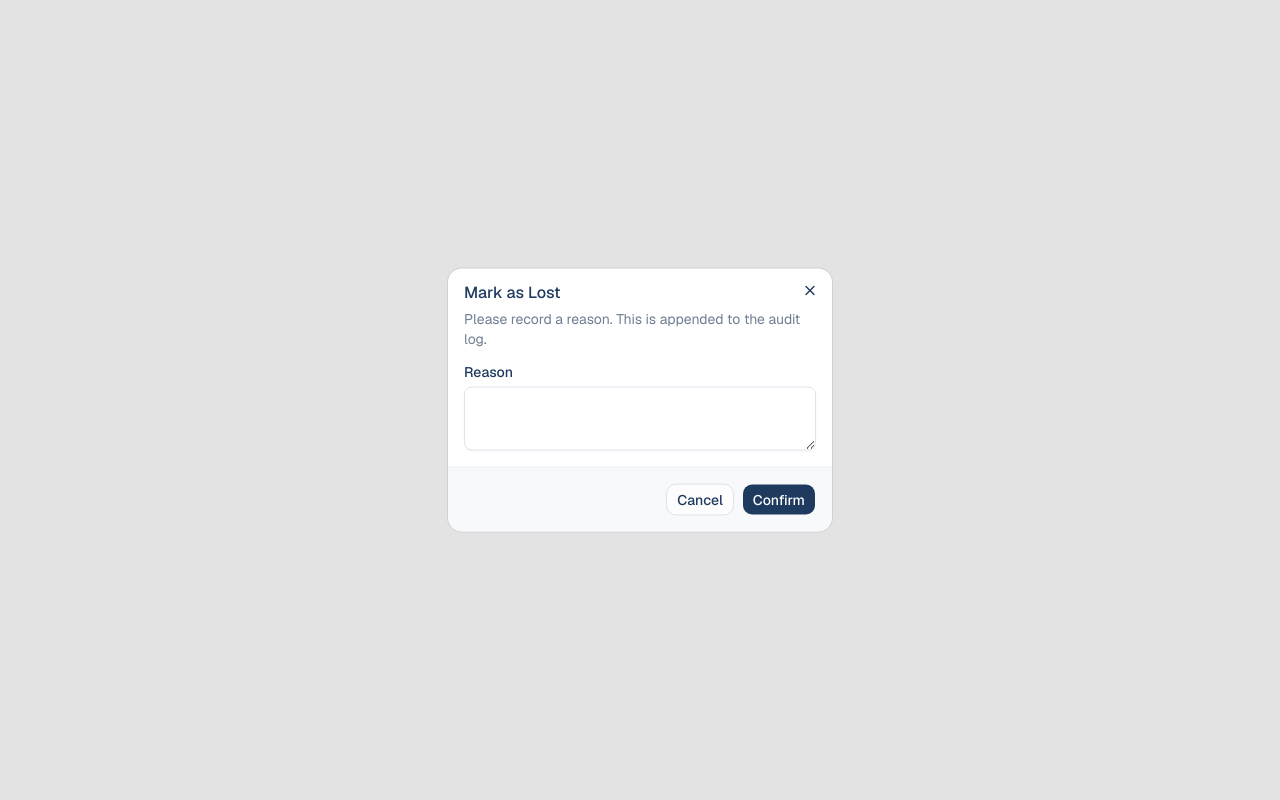
Test: TransitionReasonDialog › rejects empty reason
The width and height of the screenshot is (1280, 800).
Click the button with test id "reason-submit": x=779, y=500 [742,484,816,516]
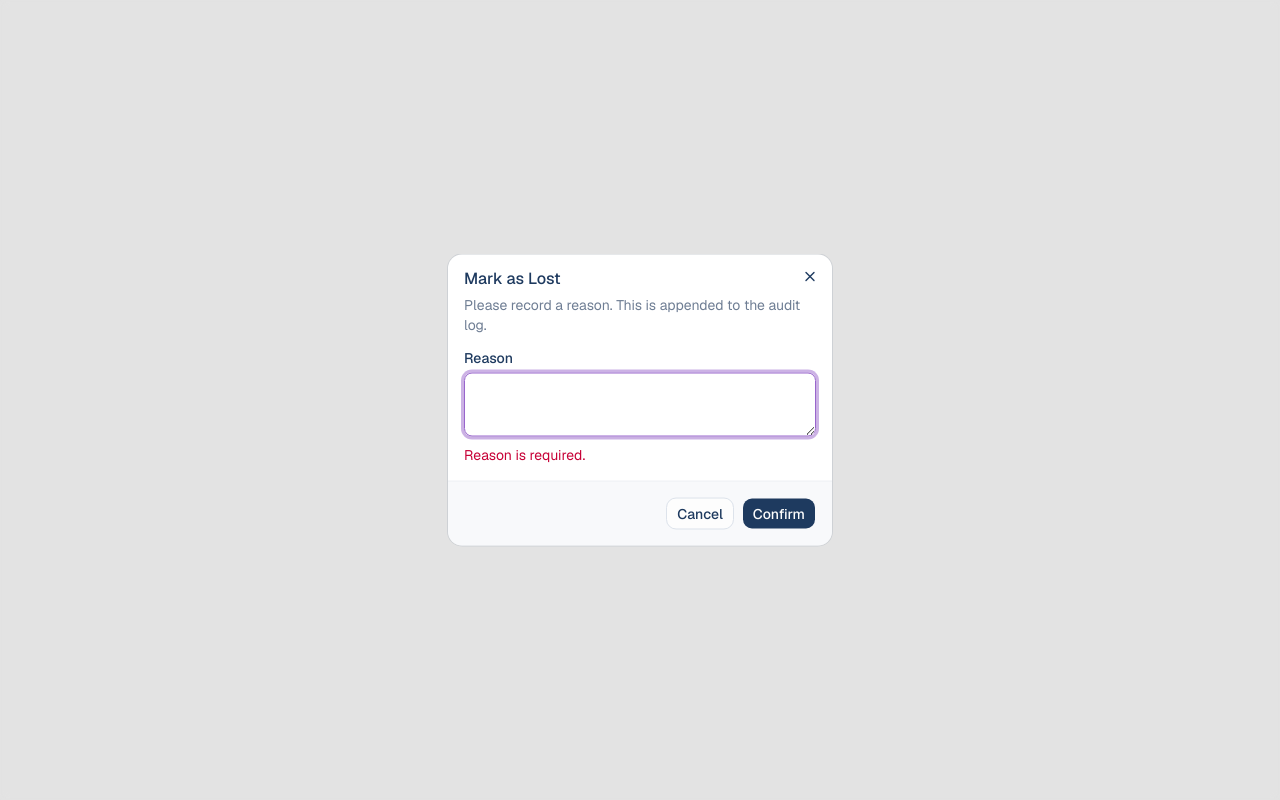
Check: the message "Reason is required." is shown, box [464,446,585,464]
